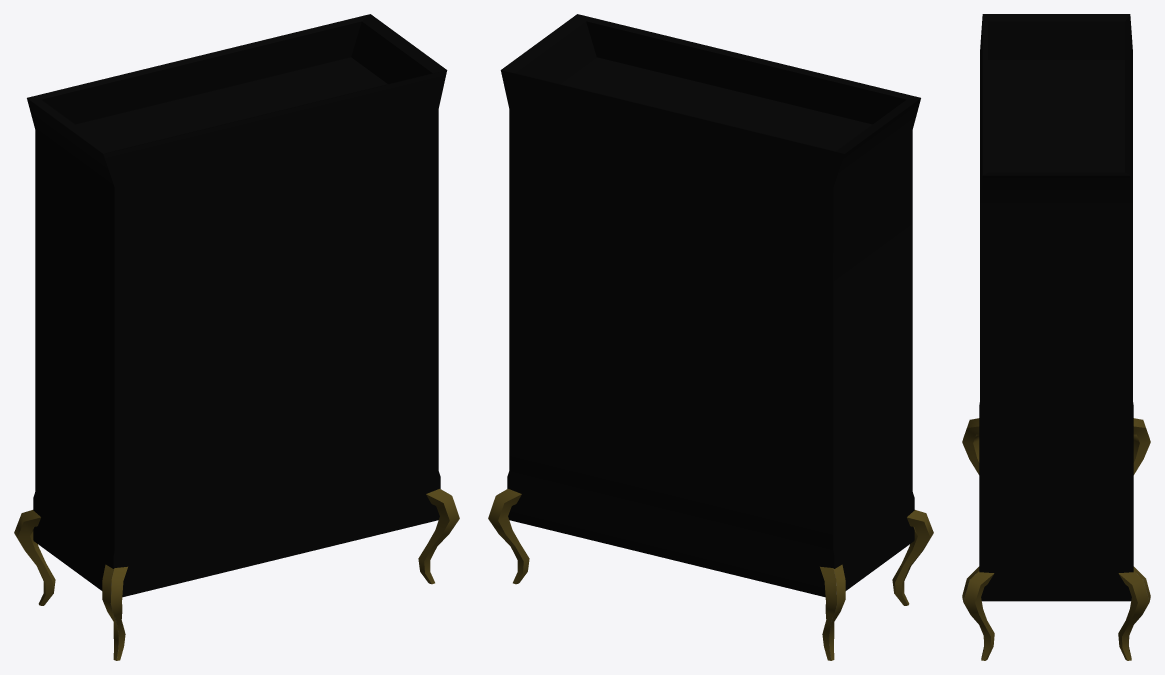
Rendered from 05 armario.obj.
3 renders of one model, left to right at view 1: azimuth 30°, elevation 25°; view 2: azimuth 150°, elevation 25°; view 3: azimuth 270°, elevation 25°, orthographic. The views are drawn at different scales.
Parts seen in each view (by area): view 1: pCube1, sweep2 group1; view 2: pCube1, sweep2 group1; view 3: pCube1, sweep2 group1.
Part boxes in pixels (box(x1,y1,x2,y2)): pCube1: box(27, 14, 447, 597); sweep2 group1: box(14, 489, 459, 660); pCube1: box(500, 14, 920, 597); sweep2 group1: box(488, 489, 933, 660); pCube1: box(979, 14, 1133, 601); sweep2 group1: box(962, 418, 1150, 660).
Size of the model in its own units: 107 by 147 by 51.14.
